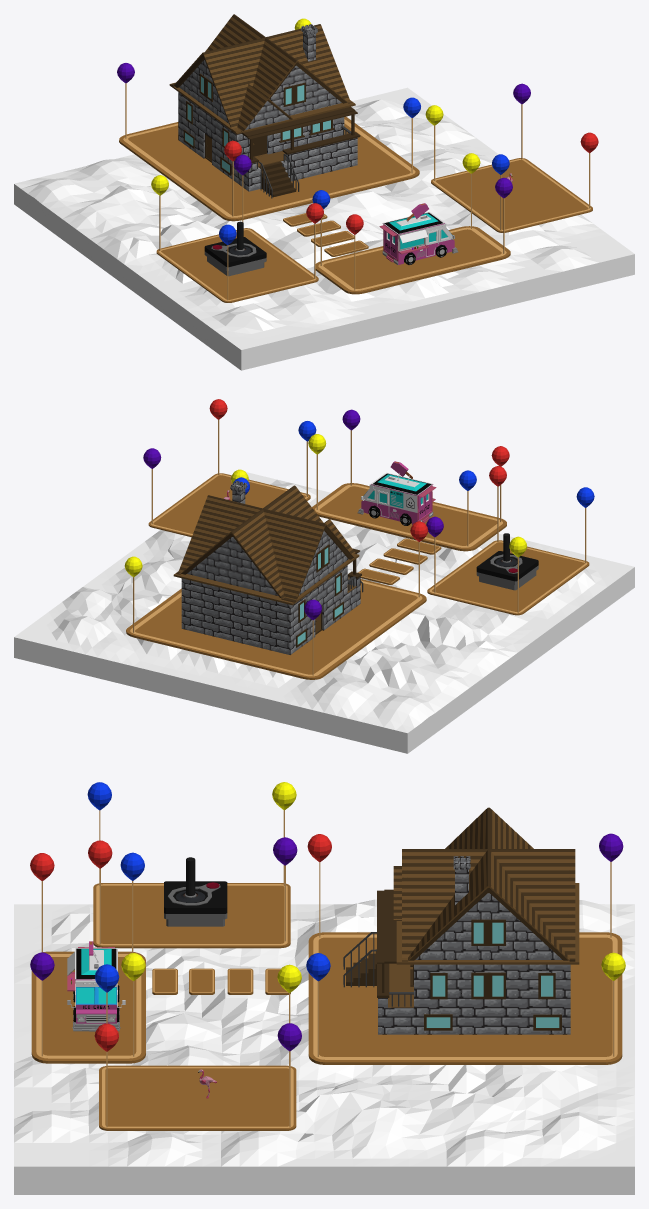
The picture shows the model from 3 angles, top to bottom: view 1: azimuth 30°, elevation 25°; view 2: azimuth 150°, elevation 25°; view 3: azimuth 270°, elevation 25°; orthographic projection. The views are drawn at different scales.
Parts seen in each view (by area): view 1: Cube.013, Cube.586, VEHICLES_ICE_CREAM_TRUCK, OBJRANDOM_JOYSTICK; view 2: Cube.013, Cube.586, VEHICLES_ICE_CREAM_TRUCK, OBJRANDOM_JOYSTICK; view 3: Cube.013, Cube.586, VEHICLES_ICE_CREAM_TRUCK, OBJRANDOM_JOYSTICK.
Part boxes in pixels (box(x1,y1,x2,y2)): Cube.013: box(14, 18, 634, 370); Cube.586: box(169, 14, 360, 198); VEHICLES_ICE_CREAM_TRUCK: box(379, 203, 458, 264); OBJRANDOM_JOYSTICK: box(204, 221, 266, 276); Cube.013: box(14, 399, 634, 753); Cube.586: box(173, 481, 363, 654); VEHICLES_ICE_CREAM_TRUCK: box(357, 461, 436, 525); OBJRANDOM_JOYSTICK: box(476, 533, 538, 590); Cube.013: box(14, 782, 634, 1194); Cube.586: box(343, 807, 579, 1034); VEHICLES_ICE_CREAM_TRUCK: box(67, 941, 125, 1031); OBJRANDOM_JOYSTICK: box(164, 857, 227, 926).
Size of the model in its own units: 4000 by 1705 by 4000.
42 materials, 2 textured.
